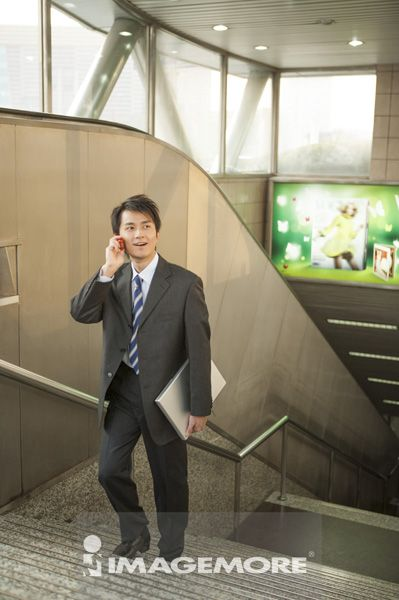talk: (105, 221, 153, 269)
